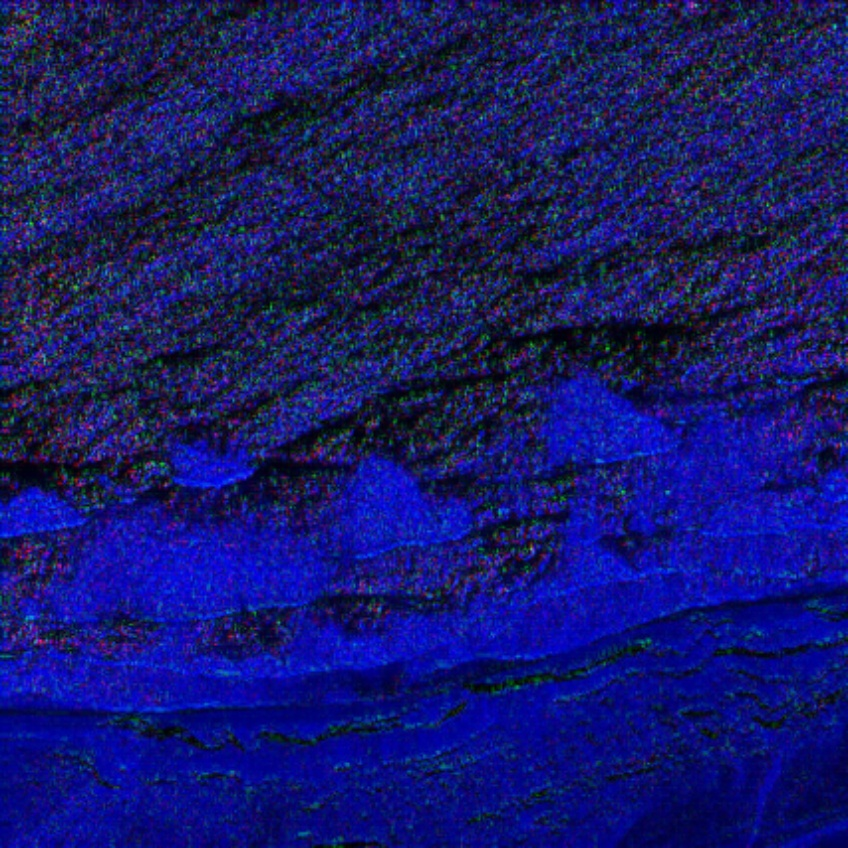rip_current: (399, 359, 616, 582)
